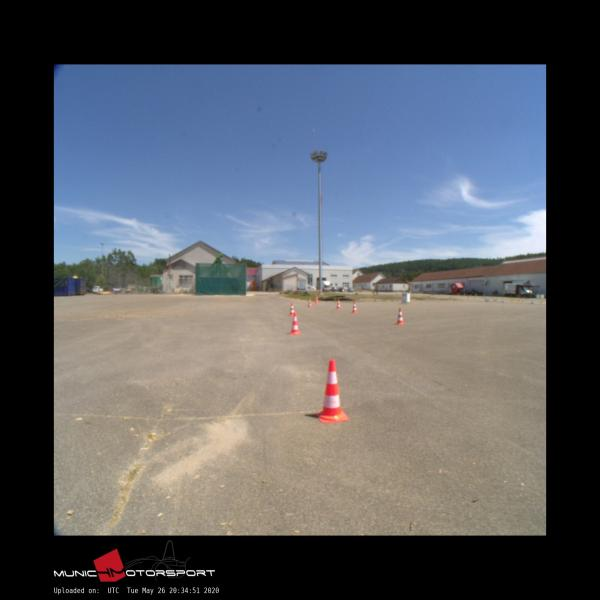large_orange_cone: (316, 359, 348, 422), (290, 314, 300, 334), (396, 306, 404, 324), (289, 302, 296, 314), (351, 300, 357, 312), (336, 298, 342, 309), (307, 298, 312, 307), (315, 295, 319, 304)
